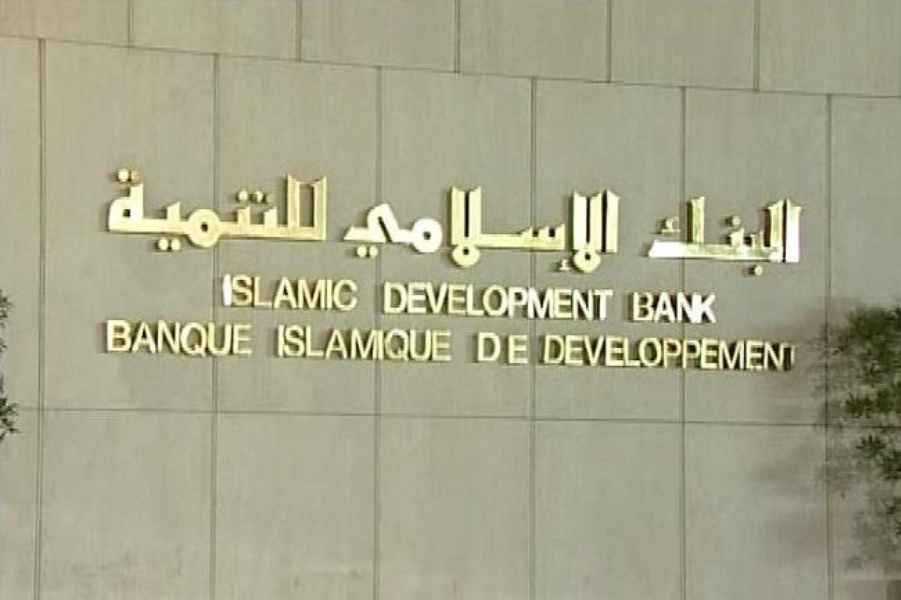text: (353, 178, 368, 278), (369, 178, 384, 278), (385, 178, 400, 278), (401, 178, 416, 278), (417, 178, 432, 278), (433, 178, 448, 278), (449, 178, 464, 278), (465, 178, 480, 278), (481, 178, 496, 278), (497, 178, 512, 278), (513, 178, 528, 278), (529, 178, 544, 278), (545, 178, 560, 278), (561, 178, 576, 278), (577, 178, 592, 278), (593, 178, 608, 278), (609, 178, 624, 278), (113, 164, 128, 255), (129, 164, 144, 255), (145, 164, 160, 255), (161, 164, 176, 255), (177, 164, 192, 255), (193, 164, 208, 255), (209, 164, 224, 255), (225, 164, 240, 255), (241, 164, 256, 255), (257, 164, 272, 255), (273, 164, 288, 255), (289, 164, 304, 255), (305, 164, 320, 255), (657, 190, 672, 279), (673, 190, 688, 279), (689, 190, 704, 279), (705, 190, 720, 279), (721, 190, 736, 279), (737, 190, 752, 279), (753, 190, 768, 279), (769, 190, 784, 279), (785, 190, 800, 279), (645, 190, 656, 279), (104, 164, 112, 255), (321, 164, 329, 255), (225, 269, 240, 314), (241, 269, 256, 314), (257, 269, 272, 314), (273, 269, 288, 314), (289, 269, 304, 314), (305, 269, 320, 314), (321, 269, 336, 314), (337, 269, 352, 314), (545, 330, 560, 375), (561, 330, 576, 375), (577, 330, 592, 375), (593, 330, 608, 375), (609, 330, 624, 375), (625, 330, 640, 375), (641, 330, 656, 375), (657, 330, 672, 375), (673, 330, 688, 375), (689, 330, 704, 375), (705, 330, 720, 375), (721, 330, 736, 375), (737, 330, 752, 375), (753, 330, 768, 375), (769, 330, 784, 375), (785, 330, 800, 375), (385, 278, 400, 322), (401, 278, 416, 322), (417, 278, 432, 322), (433, 278, 448, 322), (449, 278, 464, 322), (465, 278, 480, 322), (481, 278, 496, 322), (497, 278, 512, 322), (513, 278, 528, 322), (529, 278, 544, 322), (545, 278, 560, 322), (561, 278, 576, 322), (577, 278, 592, 322), (593, 278, 608, 322), (113, 316, 128, 359), (129, 316, 144, 359), (145, 316, 160, 359), (161, 316, 176, 359), (177, 316, 192, 359), (193, 316, 208, 359), (209, 316, 224, 359), (225, 316, 240, 359), (289, 322, 304, 365), (305, 322, 320, 365), (321, 322, 336, 365), (337, 322, 352, 365), (353, 322, 368, 365), (369, 322, 384, 365), (385, 322, 400, 365), (401, 322, 416, 365), (417, 322, 432, 365), (433, 322, 448, 365), (641, 287, 656, 328), (657, 287, 672, 328), (673, 287, 688, 328), (689, 287, 704, 328), (705, 287, 720, 328), (274, 322, 288, 365), (346, 178, 352, 278), (481, 330, 496, 368), (497, 330, 512, 368), (513, 330, 528, 368), (241, 316, 254, 359), (609, 278, 619, 322), (102, 316, 112, 359), (630, 287, 640, 328), (353, 269, 362, 314), (625, 178, 628, 278), (801, 330, 807, 375), (801, 190, 804, 279), (449, 322, 455, 365), (379, 278, 384, 322), (540, 330, 544, 375), (476, 330, 480, 368), (529, 330, 533, 368), (222, 269, 224, 314)
